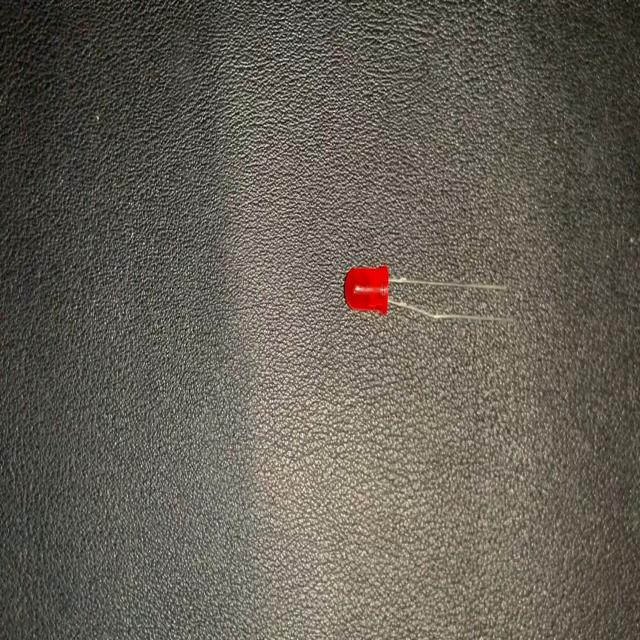LED: (341, 259, 515, 341)
